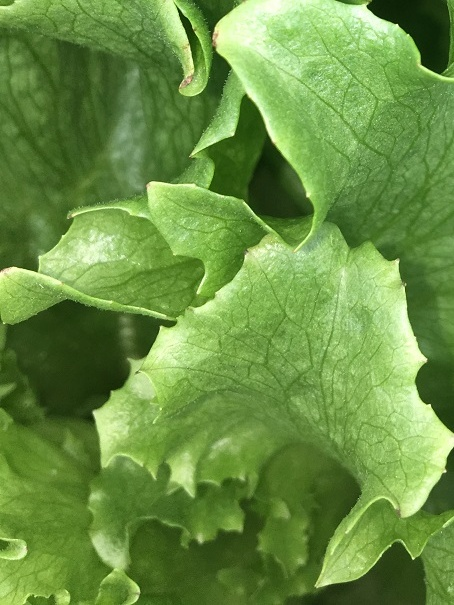tipburn: (209, 26, 223, 52), (176, 37, 194, 56), (392, 501, 408, 521), (389, 252, 405, 271), (287, 242, 303, 260), (62, 208, 79, 224), (142, 177, 158, 193), (240, 245, 255, 261), (19, 540, 31, 558), (56, 276, 70, 291), (189, 23, 200, 37), (268, 137, 280, 148)
